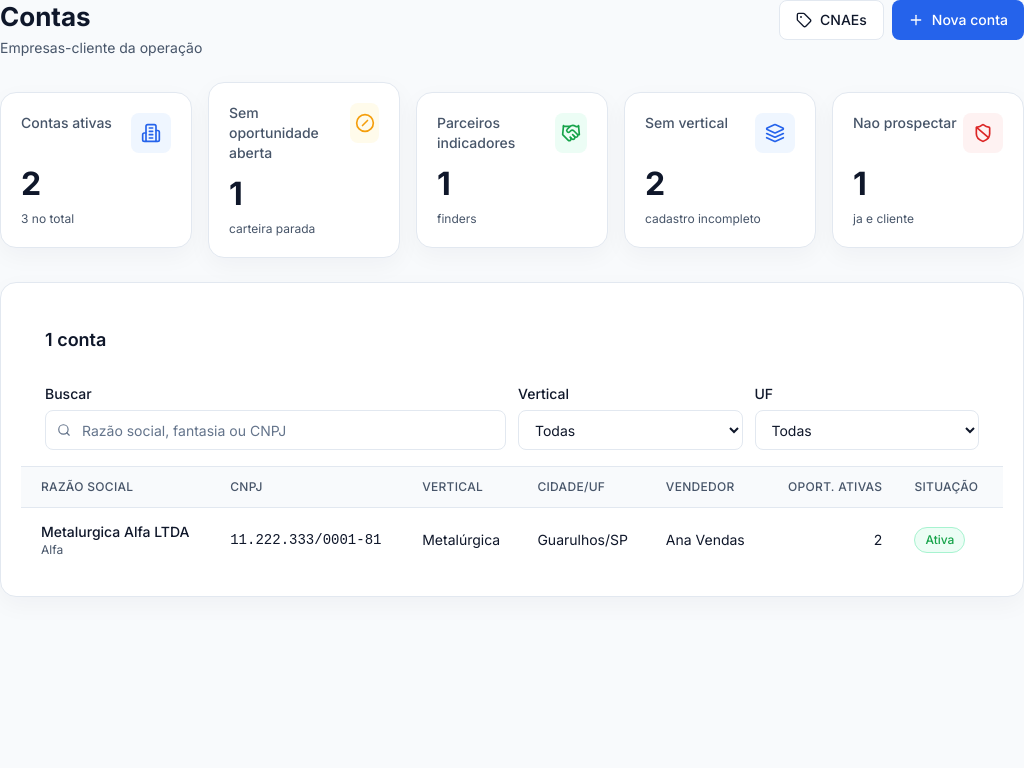
Test: Contas — formulário › exige razão social
The image size is (1024, 768).
Expected: the text "Metalurgica Alfa LTDA" is shown, [41,522,198,542]
Click the button "Nova conta" at {"x": 958, "y": 20}, box [892,0,1023,40]
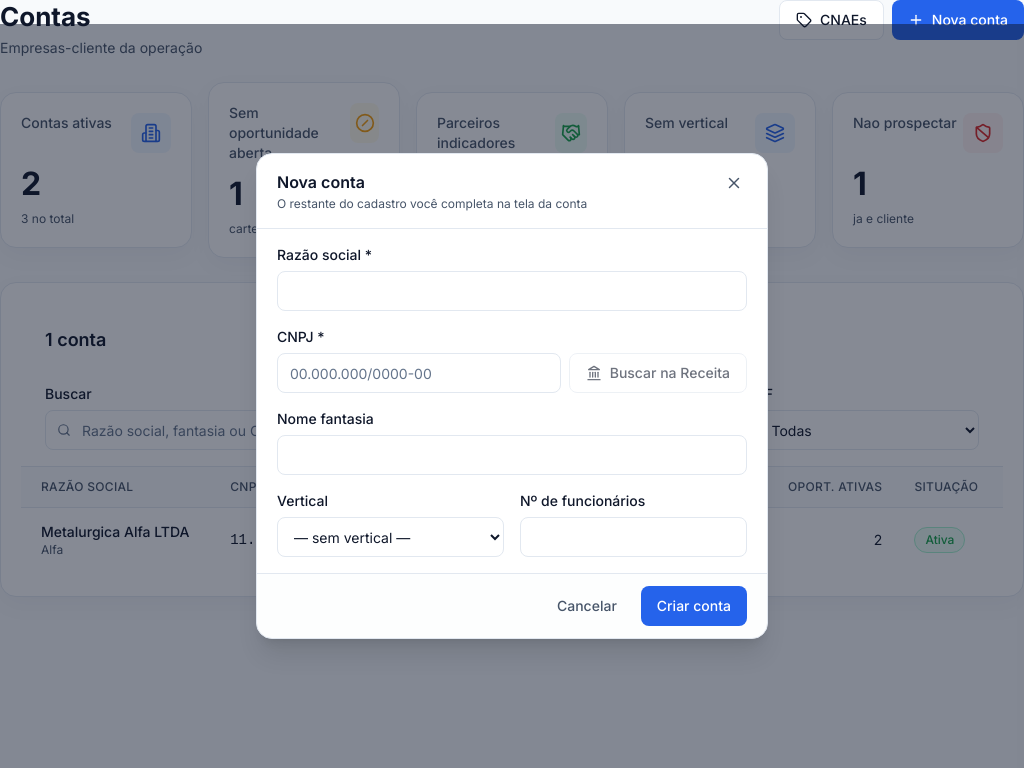
Type "11222333000181" into the field labelled "CNPJ *" at {"x": 419, "y": 373}, box [277,353,561,393]
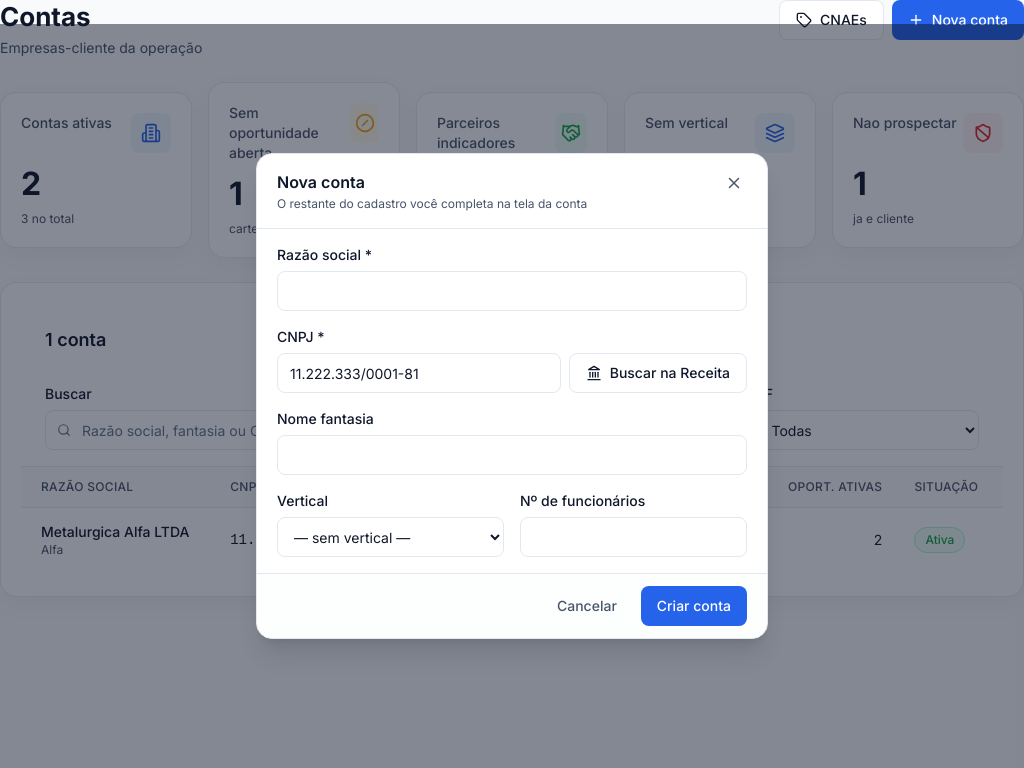
Click the button "Criar conta" at {"x": 694, "y": 606}, box [641,586,747,626]
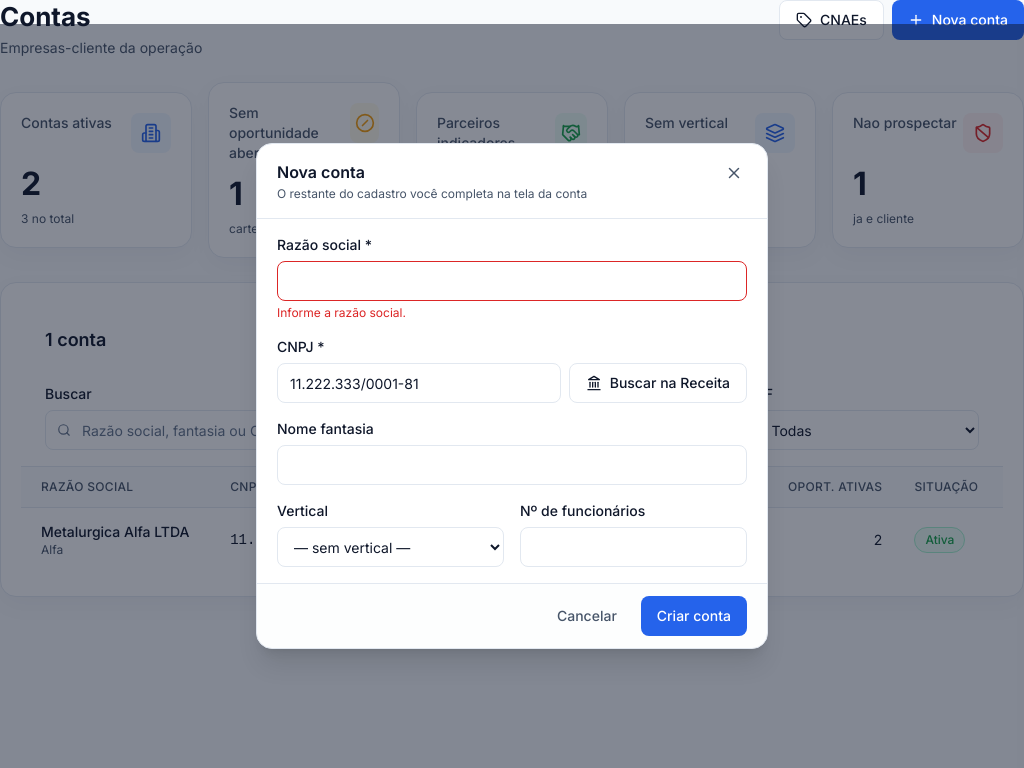
Expected: the text "Informe a razão social." is shown, [277,305,406,320]
